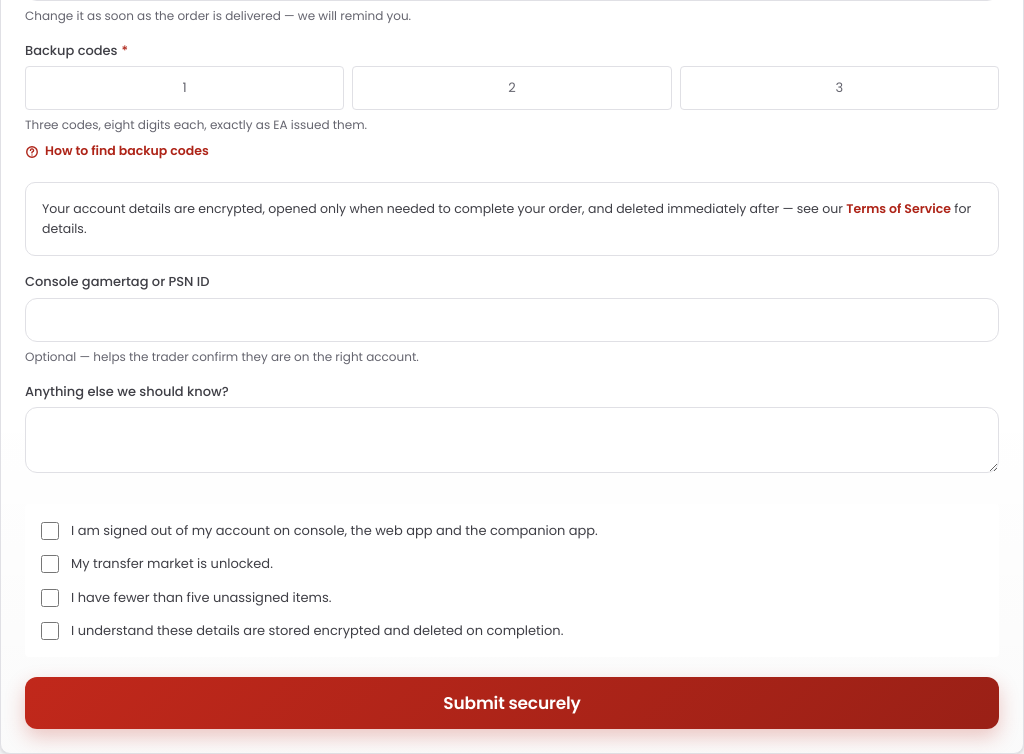
Test: sending the EA sign-in from the order page › the button is not greyed out; pressed empty, it says what is missing, field by field
This screenshot has width=1024, height=754.
(page scrolled)
Click the button "Submit securely": (512, 703) x1=25 y1=677 x2=999 y2=729
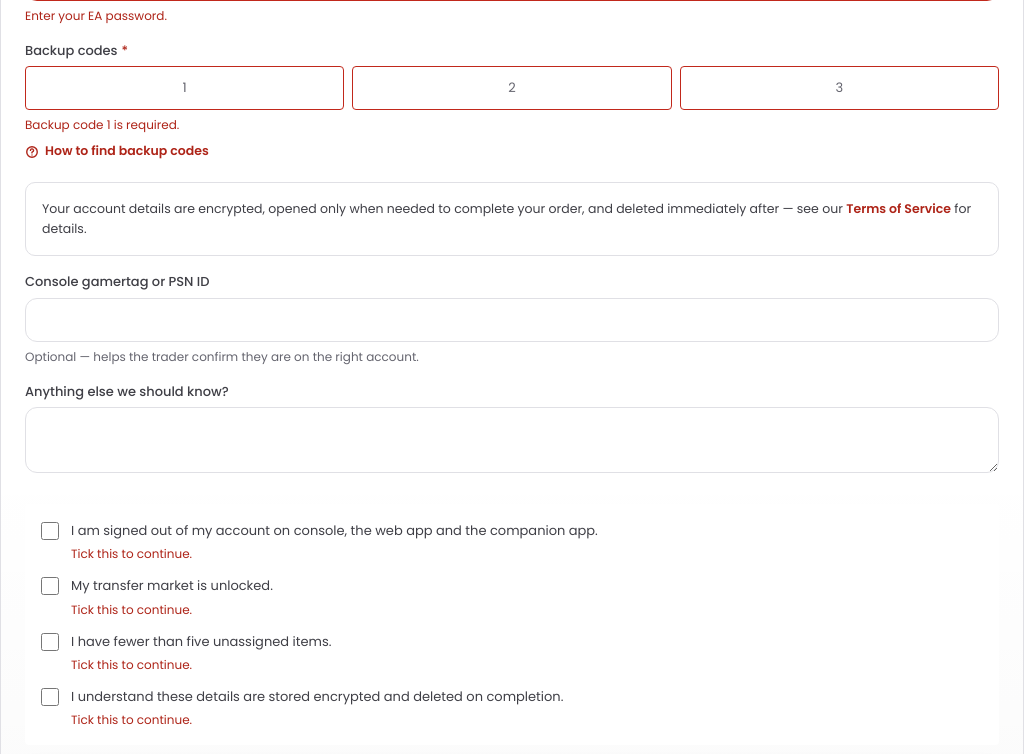
Expected: the number of checkboxes is 4, x1=41 y1=522 x2=59 y2=540; x1=41 y1=577 x2=59 y2=595; x1=41 y1=633 x2=59 y2=651; x1=41 y1=688 x2=59 y2=706
Expected: the text "Tick this to continue." is shown 4 times, x1=71 y1=545 x2=192 y2=562; x1=71 y1=601 x2=192 y2=618; x1=71 y1=656 x2=192 y2=673; x1=71 y1=711 x2=192 y2=728
